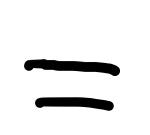eqv: (24, 58, 121, 111)
